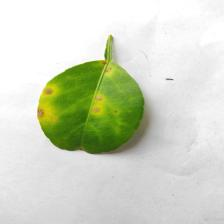canker: (37, 61, 130, 128)
